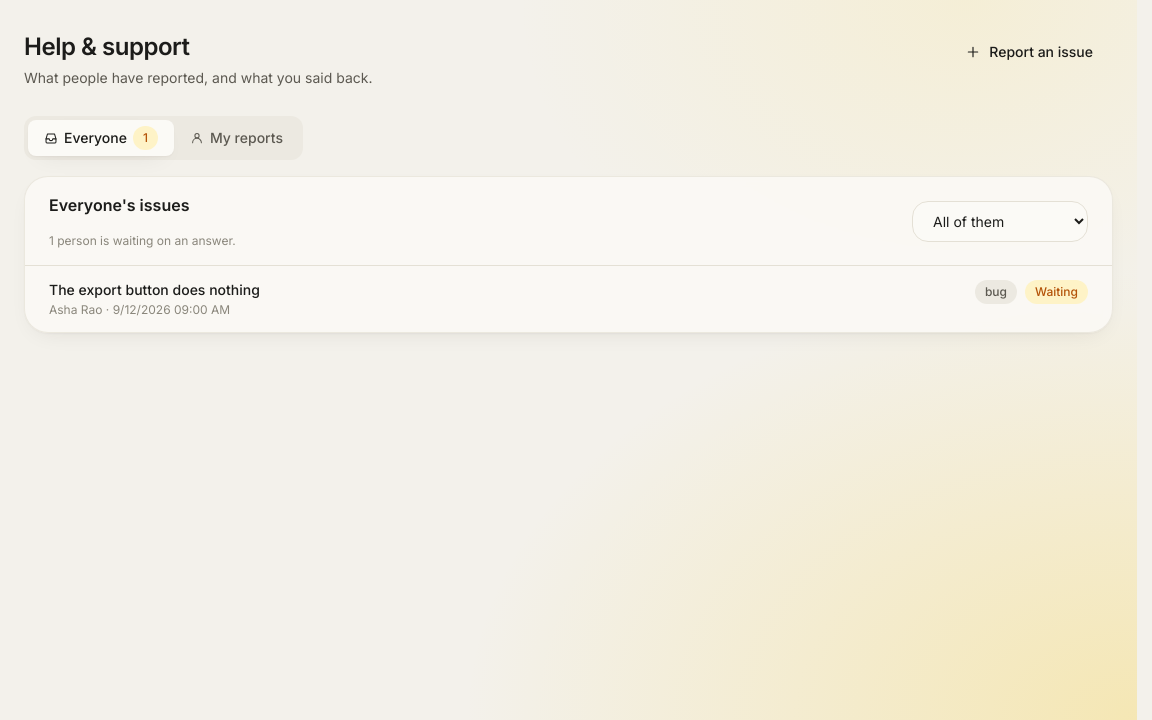
Test: the queue › answers one, and says so without a reload
Click the button "export button" at {"x": 154, "y": 290}, box [25,266,1112,332]
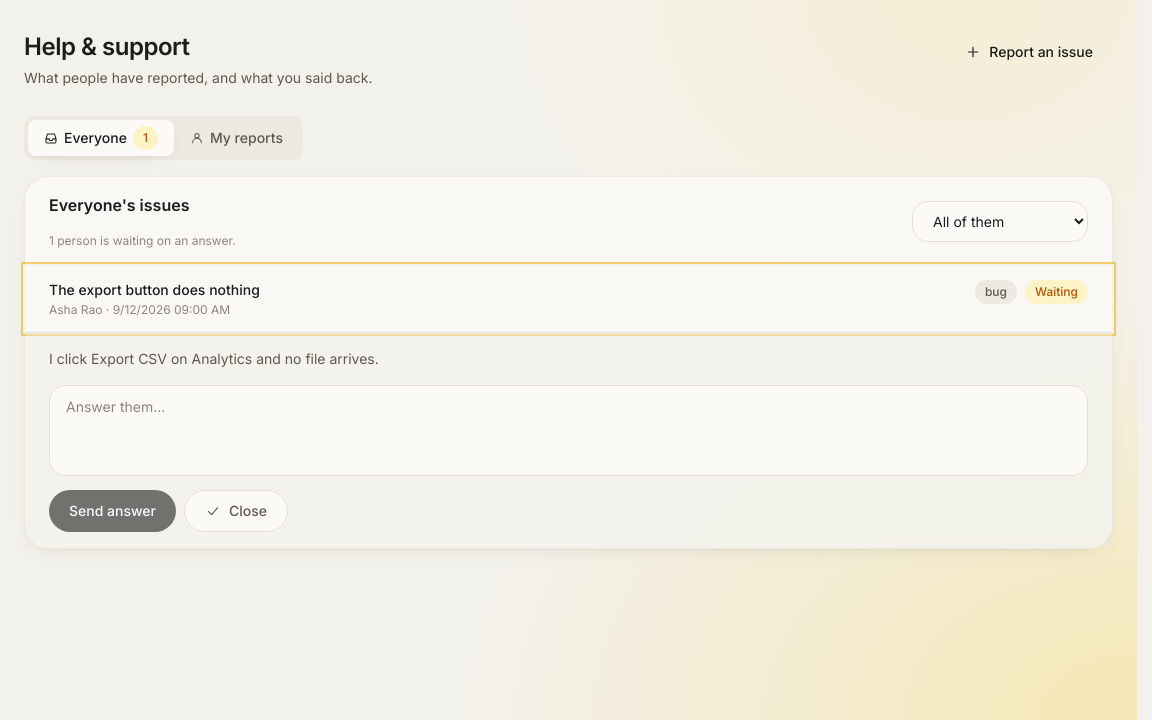
Type "Fixed — try again." into the text box named "reply to" at {"x": 568, "y": 431}, box [49,385,1088,476]
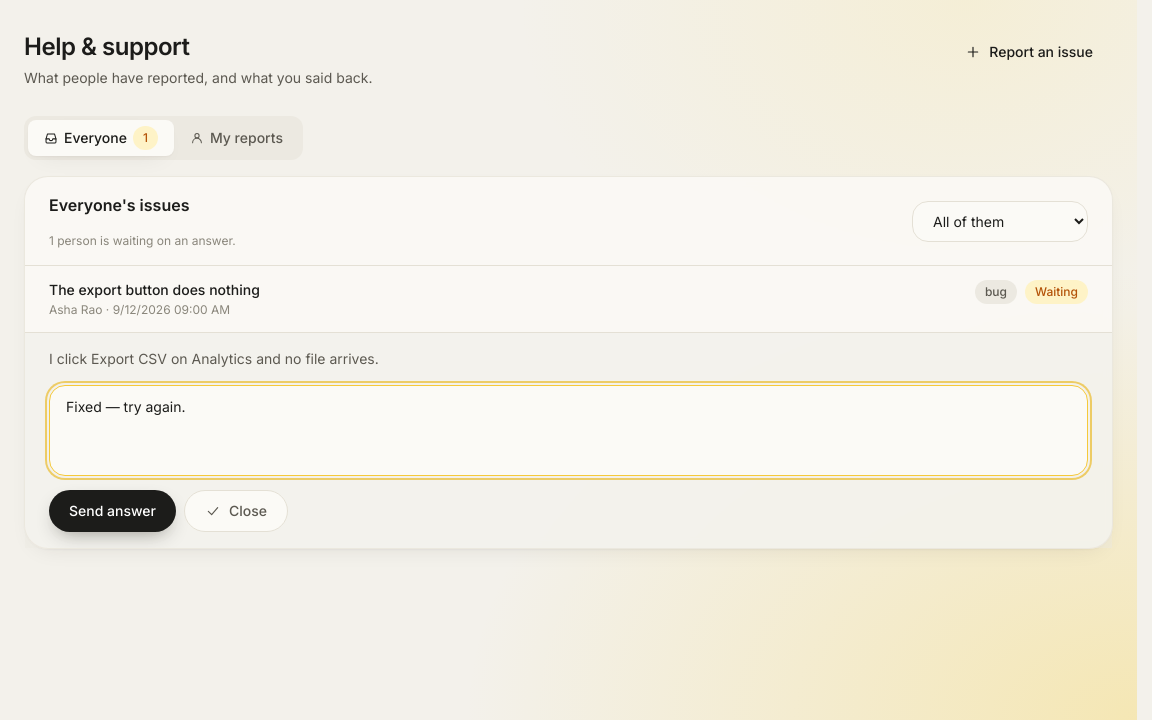
Click the button "Send answer" at {"x": 112, "y": 511}, box [49,490,176,532]
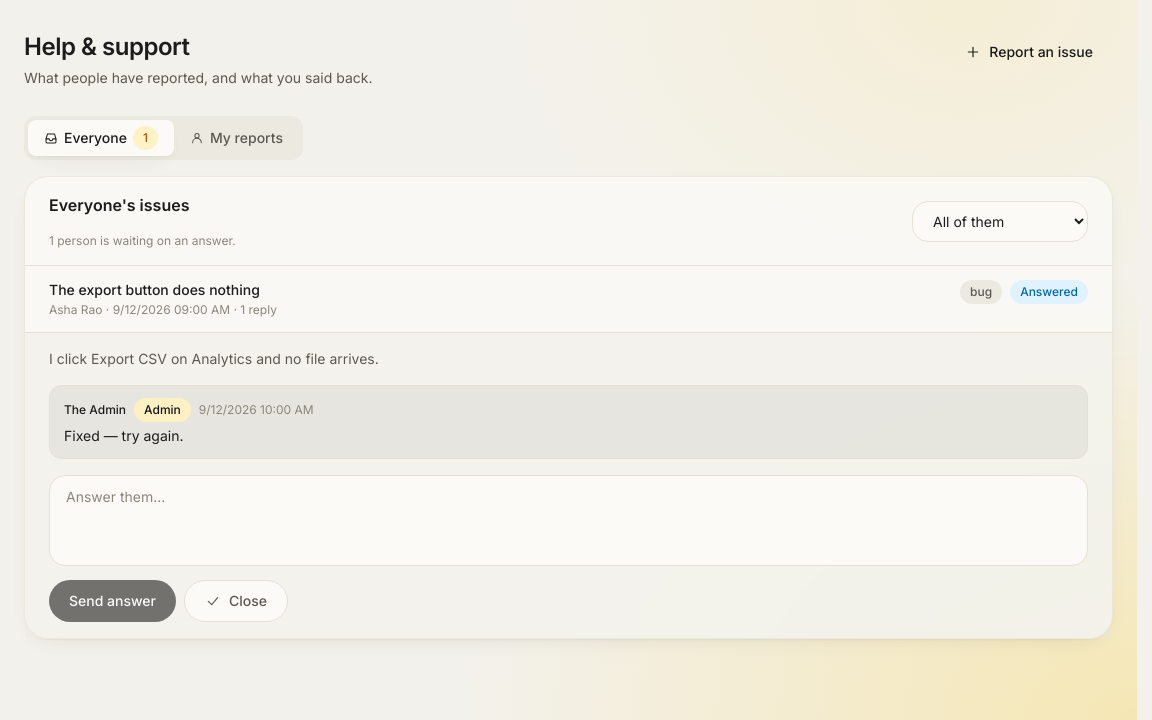
Now the text "Answered" is shown, box [1010,280,1088,304]
